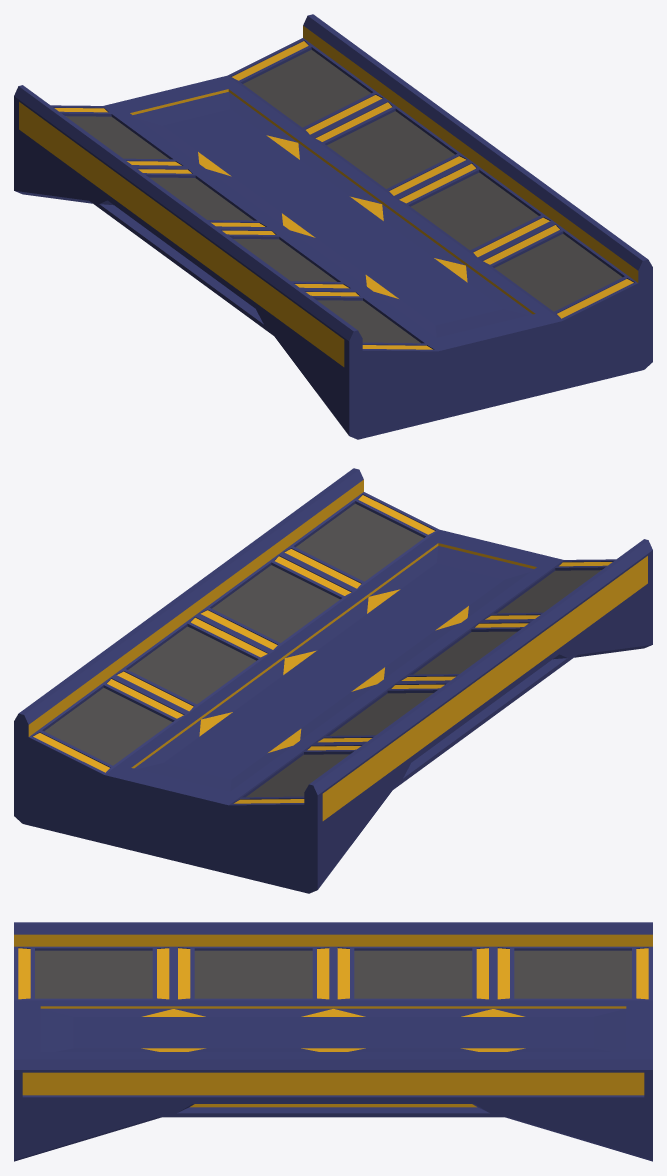
The model's file is BRIDGE-HUMAN.fbx.
3 renders of one model, top to bottom at view 1: azimuth 30°, elevation 25°; view 2: azimuth 150°, elevation 25°; view 3: azimuth 270°, elevation 25°, orthographic. The views are drawn at different scales.
Parts seen in each view (by area): view 1: Cube; view 2: Cube; view 3: Cube.
Part boxes in pixels (bbox=[...]): Cube: bbox=[14, 14, 652, 439]; Cube: bbox=[14, 468, 652, 893]; Cube: bbox=[14, 922, 652, 1161].
Bounding box in the file's own units: 373 × 128 × 712.
